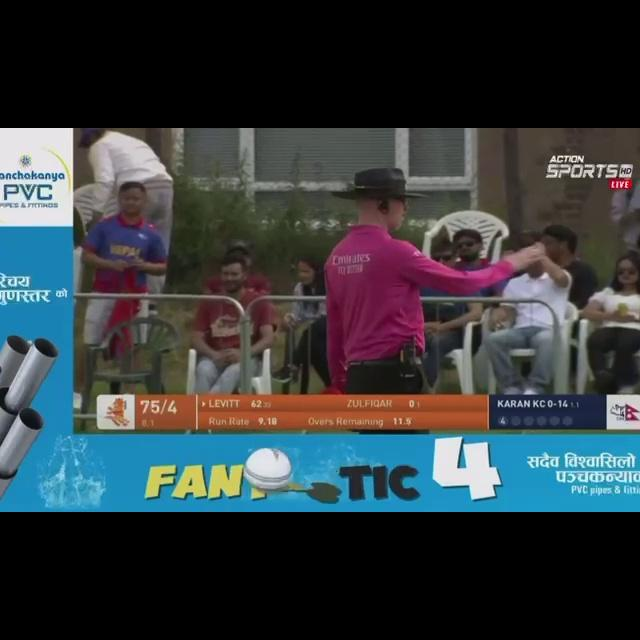umpire: (266, 138, 560, 376)
